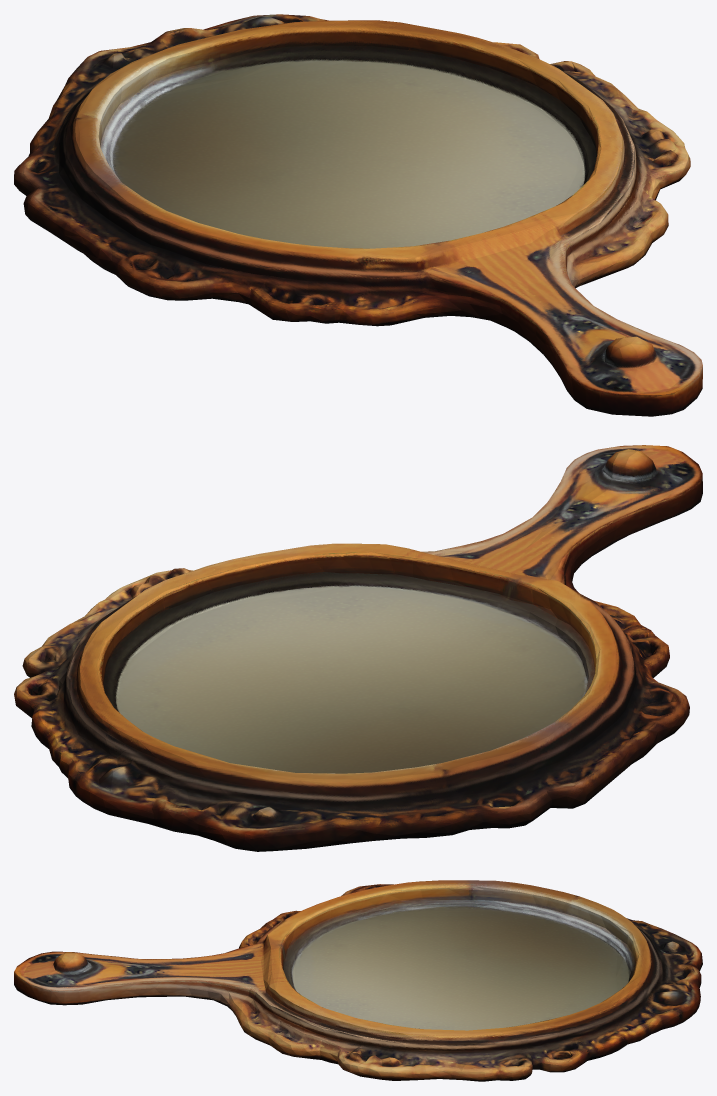
The model's file is wooden-hand-mirror-rustic.jpeg.glb.
The picture shows the model from 3 angles, top to bottom: view 1: azimuth 30°, elevation 25°; view 2: azimuth 150°, elevation 25°; view 3: azimuth 270°, elevation 25°; orthographic projection. The views are drawn at different scales.
Visible parts, largest first — view 1: world; view 2: world; view 3: world.
Part boxes in pixels (x1,y1,x2,y2): world: (14,14,702,416); world: (14,445,702,851); world: (14,880,702,1081).
Bounding box in the file's own units: 0.6476 × 0.0602 × 0.9963.
1 material, 1 textured.
